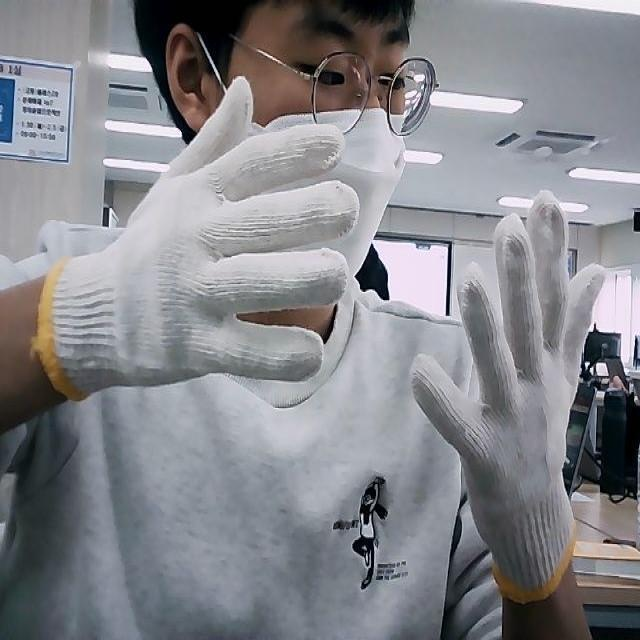Guantes: (38, 75, 360, 399), (410, 192, 606, 599)
